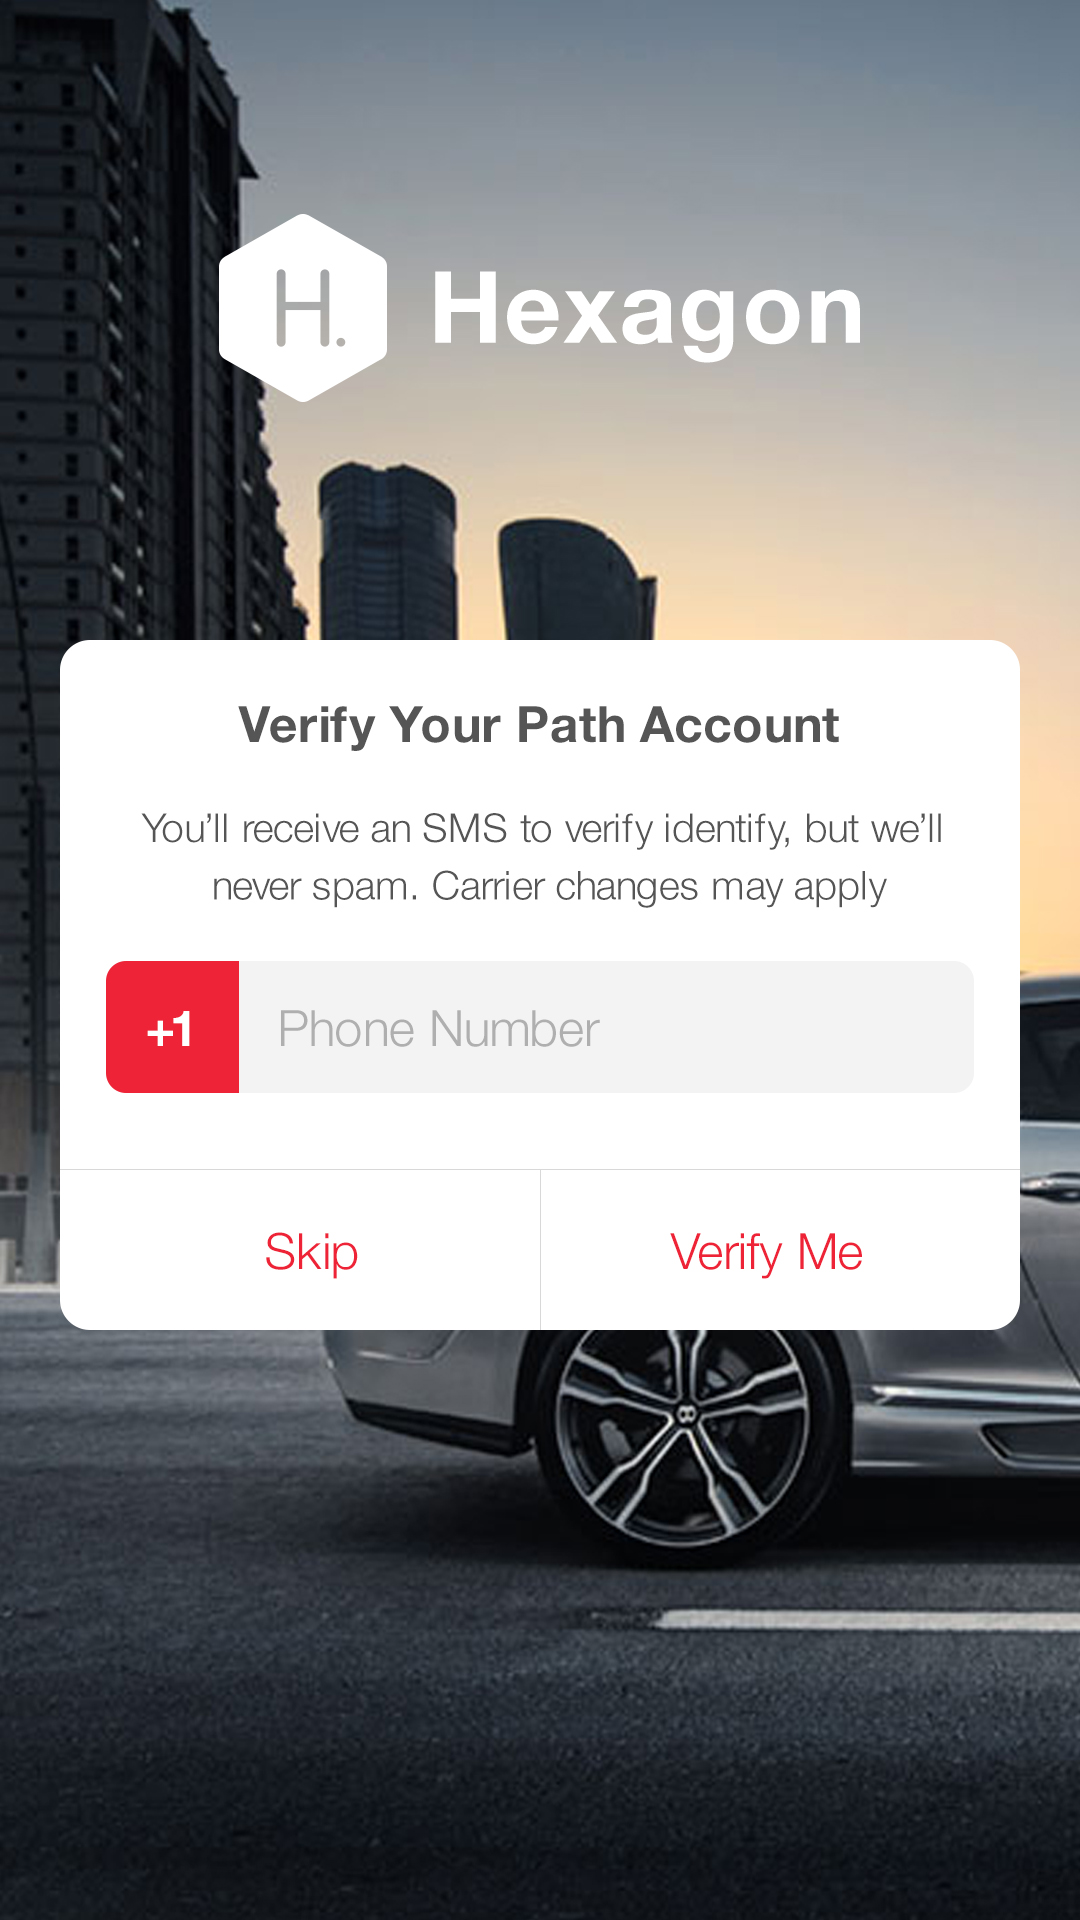BackgroundImage: (1, 1, 1080, 1920)
Card: (61, 640, 1021, 1331)
EditText: (105, 961, 975, 1095)
Image: (219, 214, 388, 404)
Text: (141, 812, 942, 909), (434, 272, 861, 365), (237, 705, 840, 753), (280, 1010, 601, 1048), (146, 1010, 193, 1048)
TextButton: (541, 1168, 1021, 1331), (61, 1168, 541, 1331)
